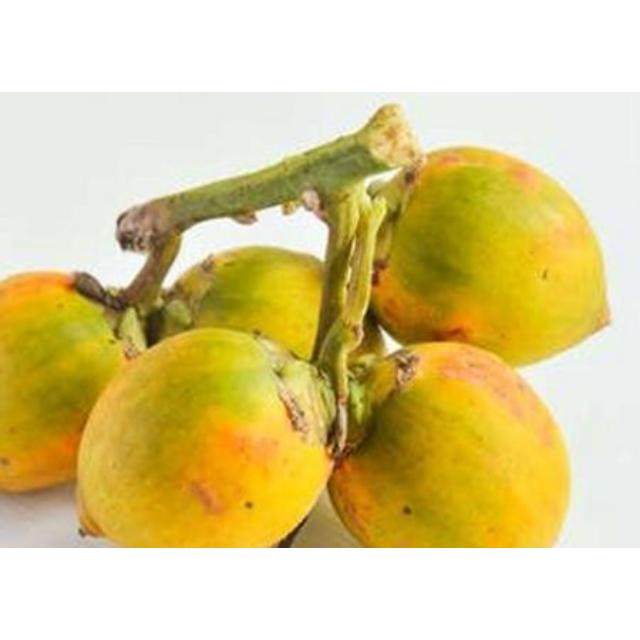good: (77, 327, 371, 547), (371, 146, 613, 369), (324, 342, 575, 547), (0, 273, 124, 497)
